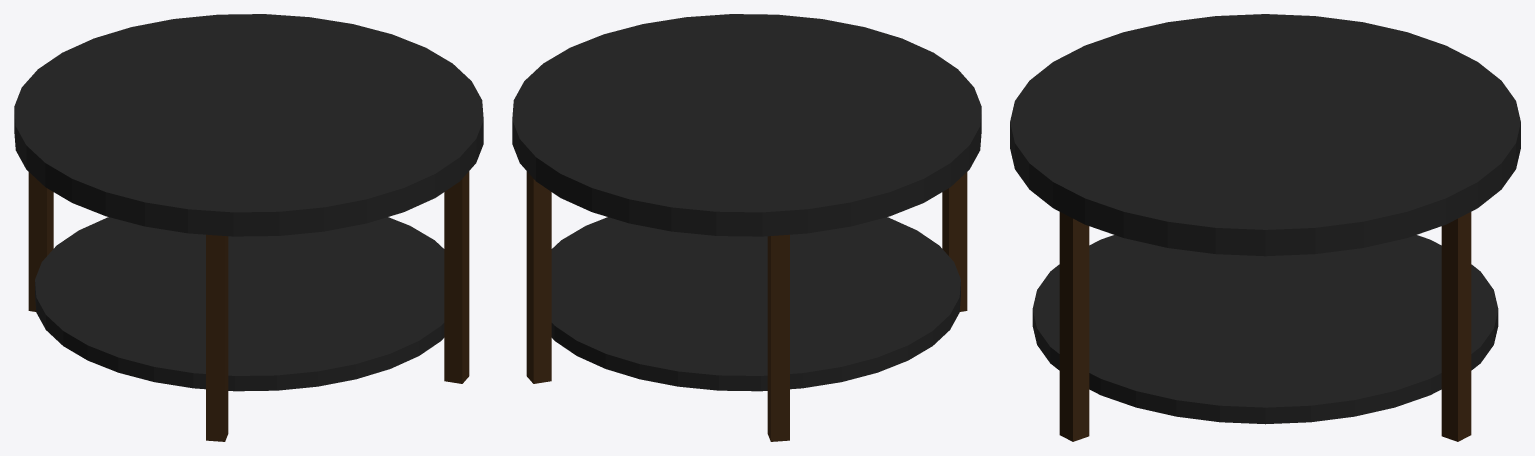
Rendered from Fur_office_CoffeeTable_Circular_V2_Fixed_V2_.fbx.
The picture shows the model from 3 angles, left to right: view 1: azimuth 30°, elevation 25°; view 2: azimuth 150°, elevation 25°; view 3: azimuth 270°, elevation 25°; orthographic projection. The views are drawn at different scales.
Visible parts, largest first — view 1: Circle; view 2: Circle; view 3: Circle.
Boxes of the visible parts, <box> form: Circle: <box>14,14,483,441</box>; Circle: <box>512,14,981,441</box>; Circle: <box>1010,14,1520,441</box>.
Size of the model in its own units: 897 by 485 by 897.
